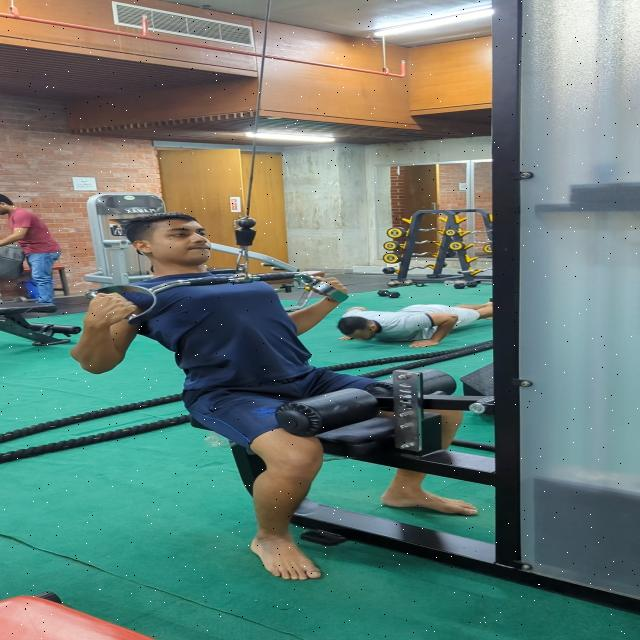Normal_LatPulldown: (62, 207, 483, 590)
